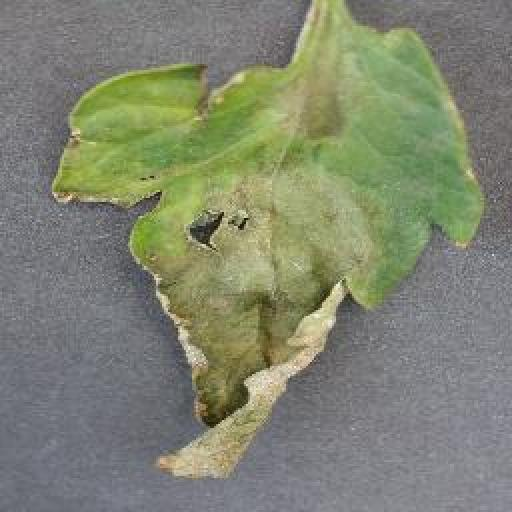Late Blight: (46, 19, 490, 484)
